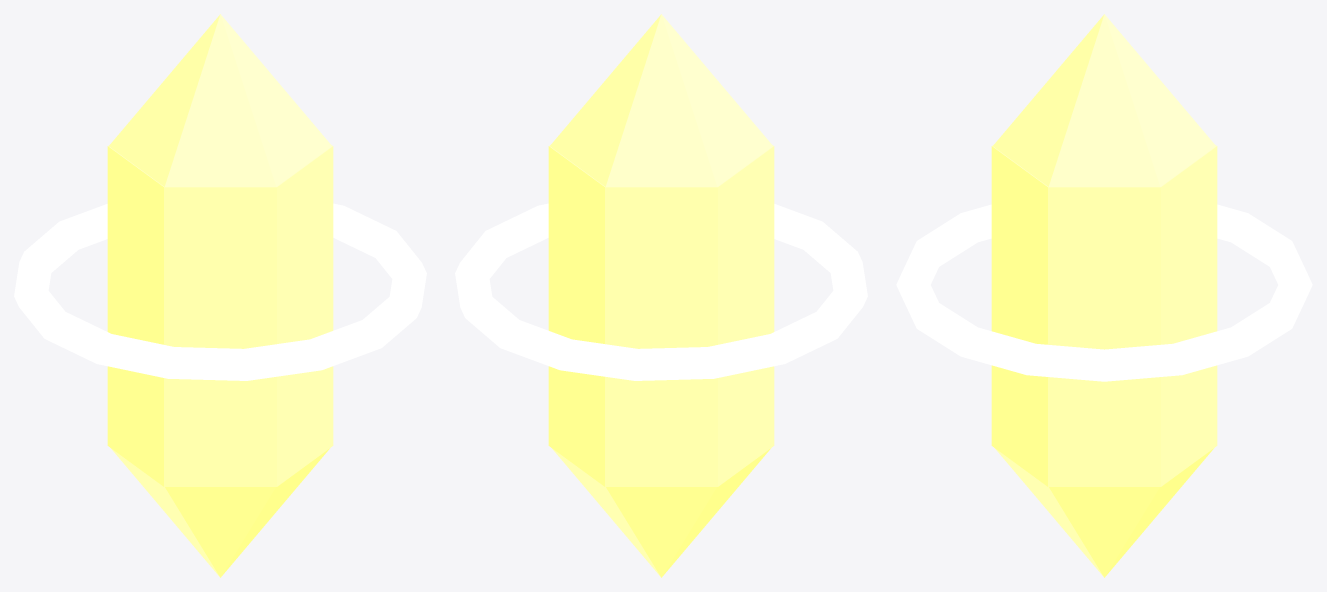
File: crystal4.glb
The picture shows the model from 3 angles, left to right: view 1: azimuth 30°, elevation 25°; view 2: azimuth 150°, elevation 25°; view 3: azimuth 270°, elevation 25°; orthographic projection.
Parts seen in each view (by area): view 1: PrismBody; view 2: PrismBody; view 3: PrismBody.
Part boxes in pixels (left/top/right/bottom): PrismBody: left=14, top=14, right=426, bottom=577; PrismBody: left=455, top=14, right=867, bottom=577; PrismBody: left=896, top=14, right=1312, bottom=577.
Bounding box in the file's own units: 1.7 × 2.54 × 1.7.
